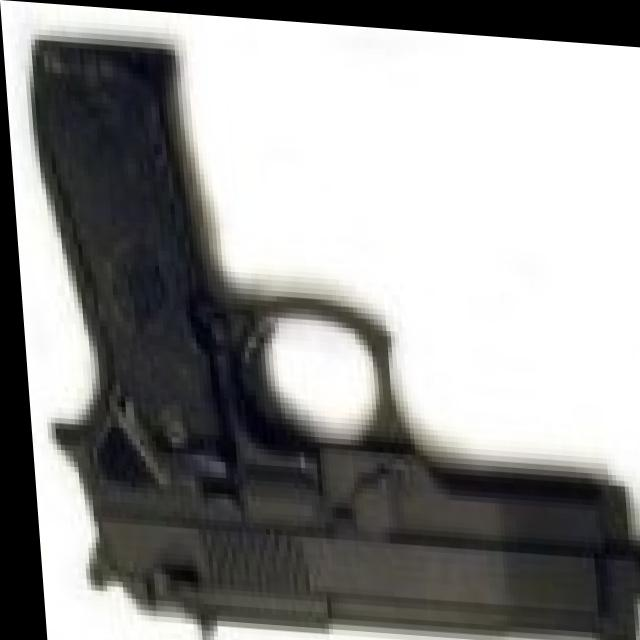handgun: (27, 44, 640, 640)
